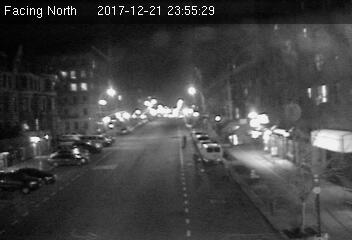truck: (201, 143, 222, 163)
